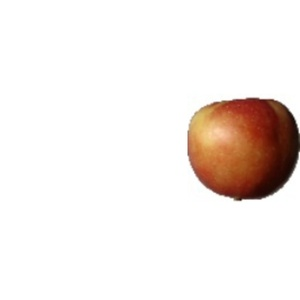maçã braeburn: (188, 96, 297, 202)
